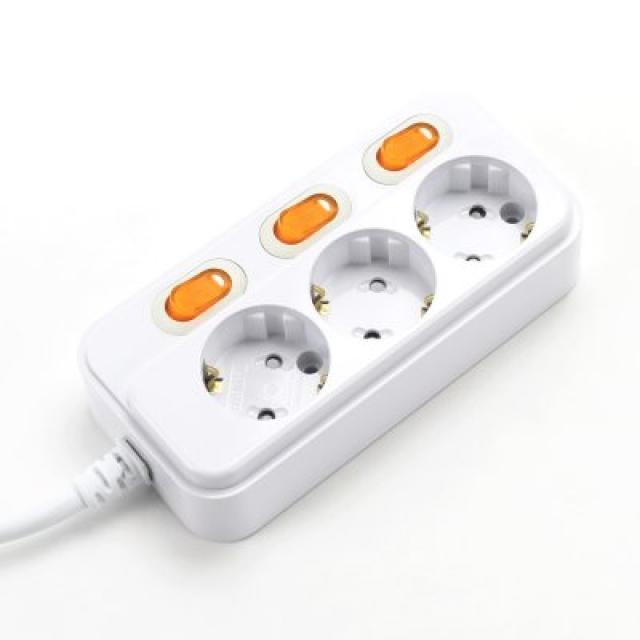typeb: (57, 86, 611, 547)
